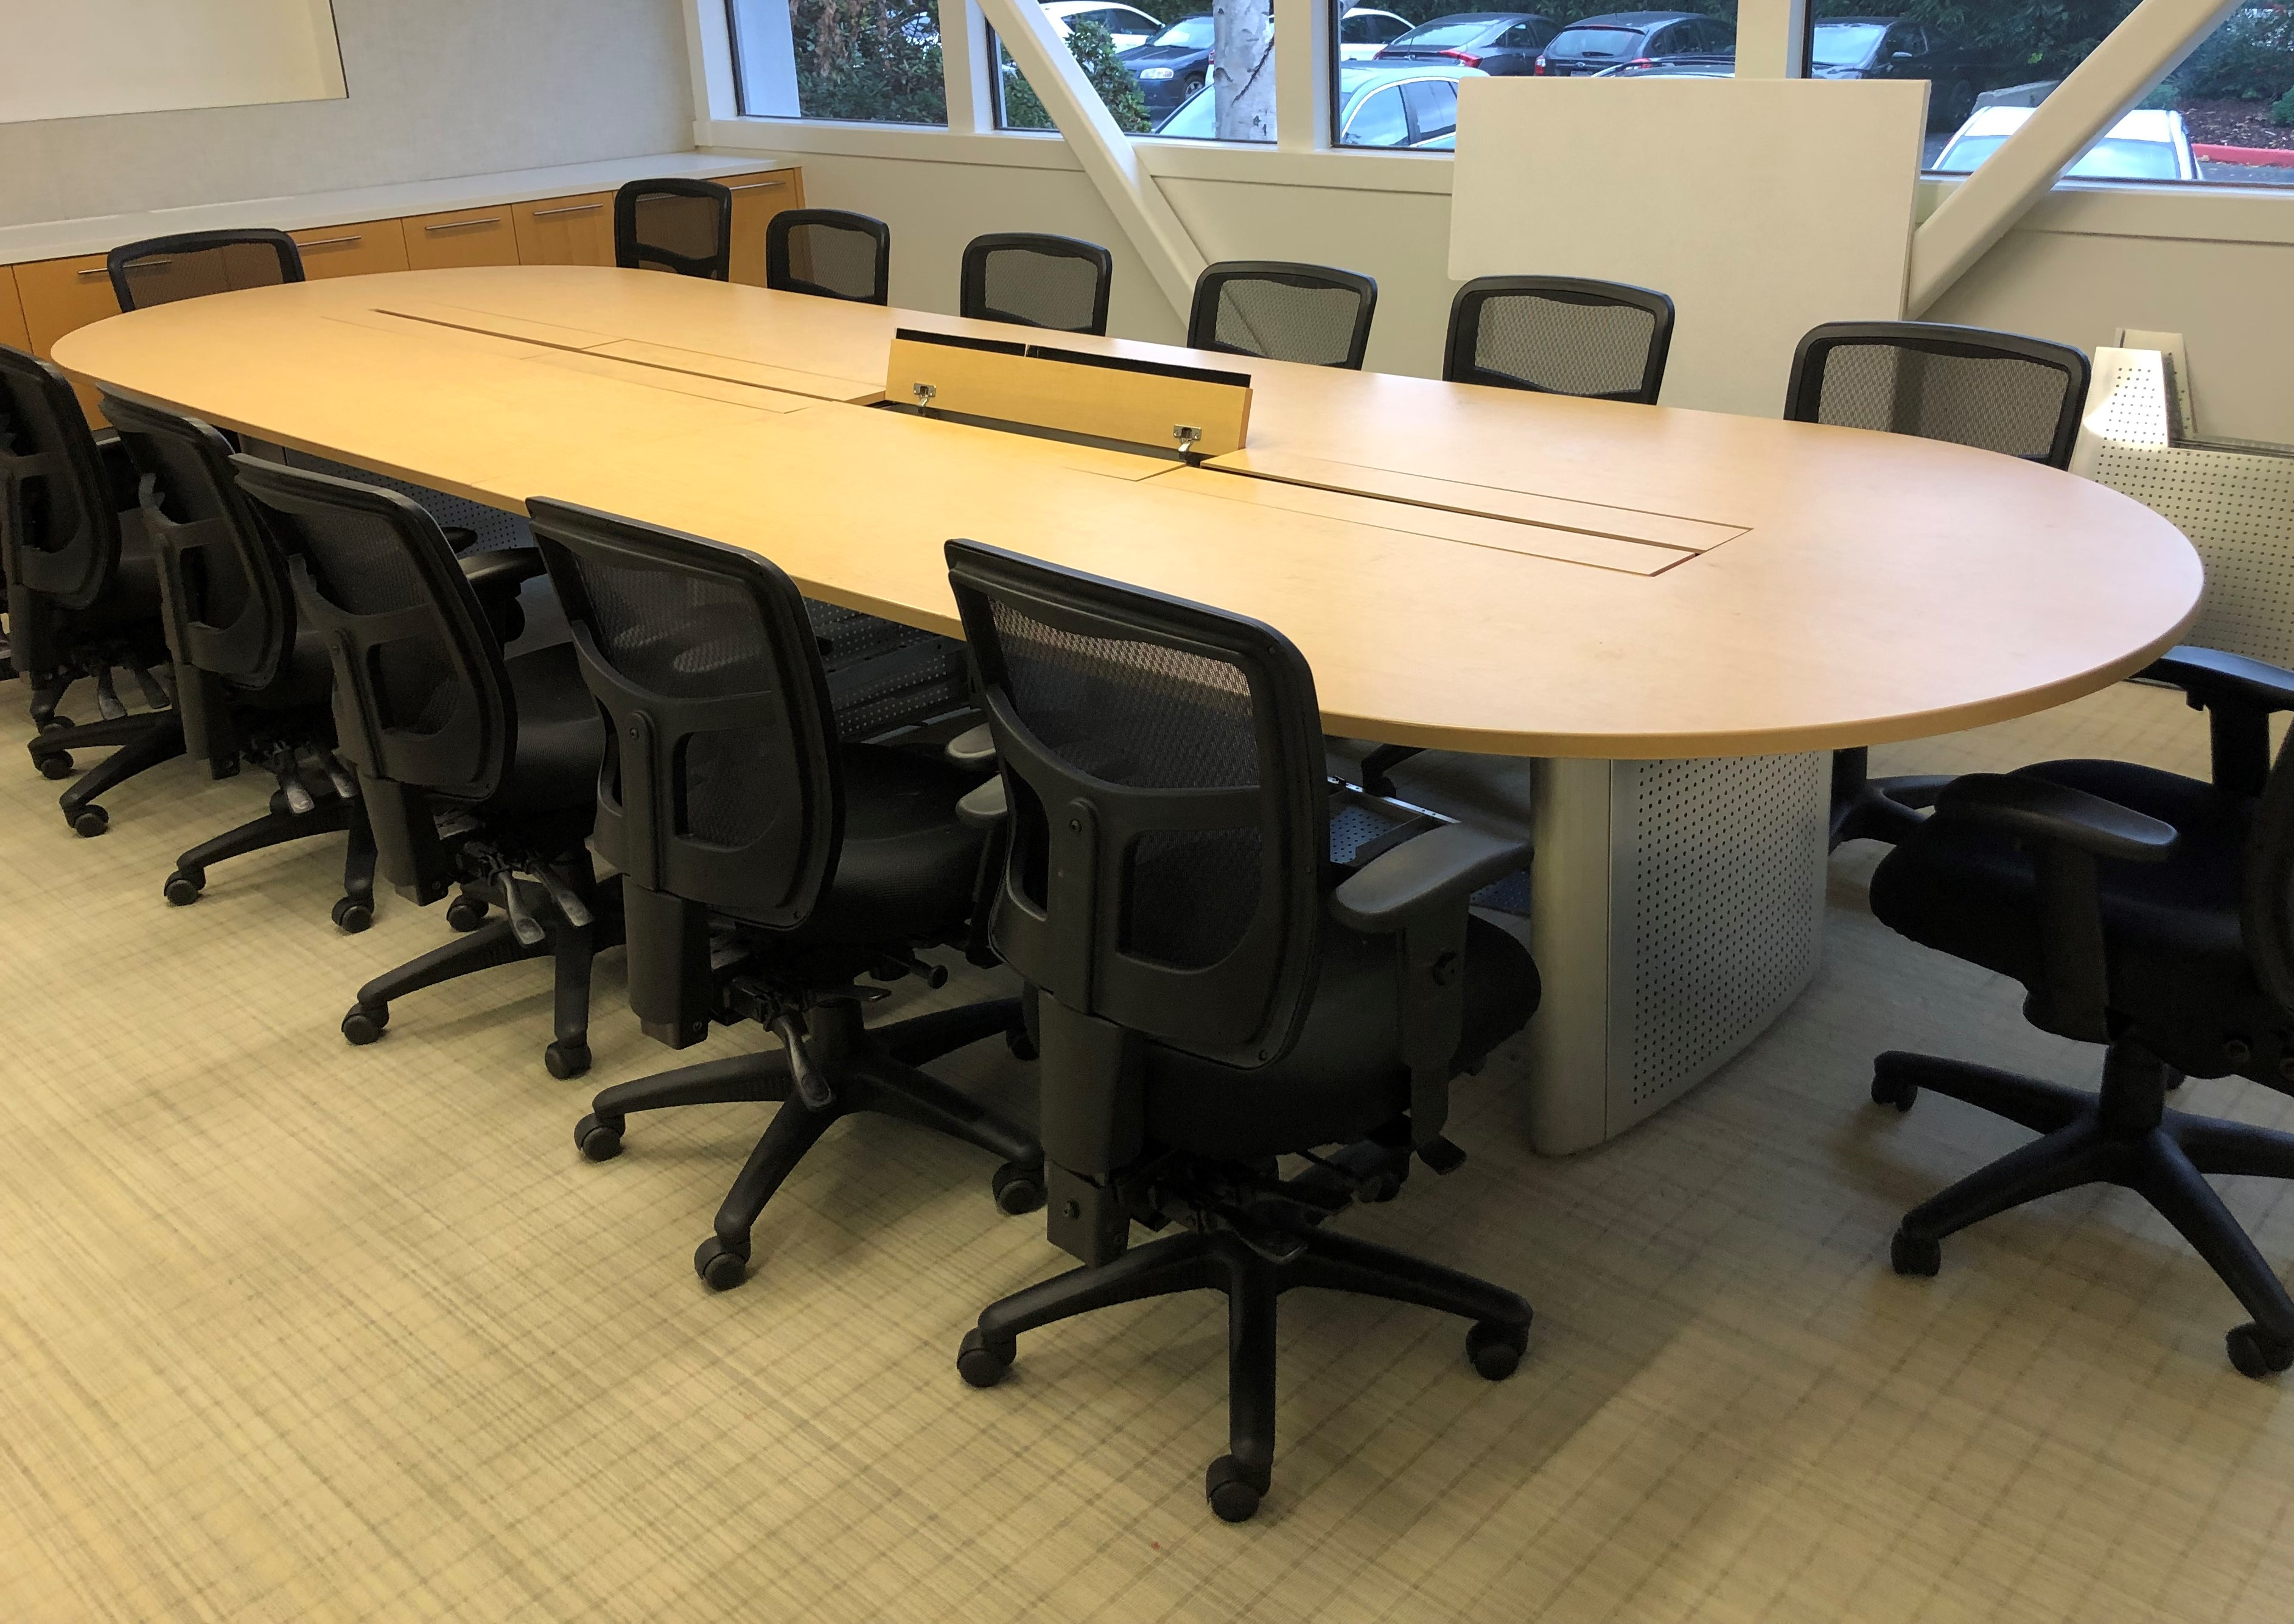conference_table: (48, 268, 2212, 1155)
